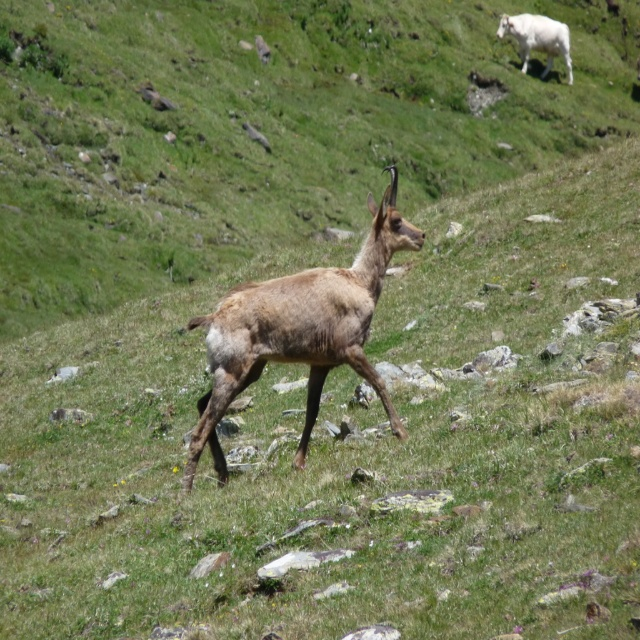Deer: (178, 165, 425, 495)
